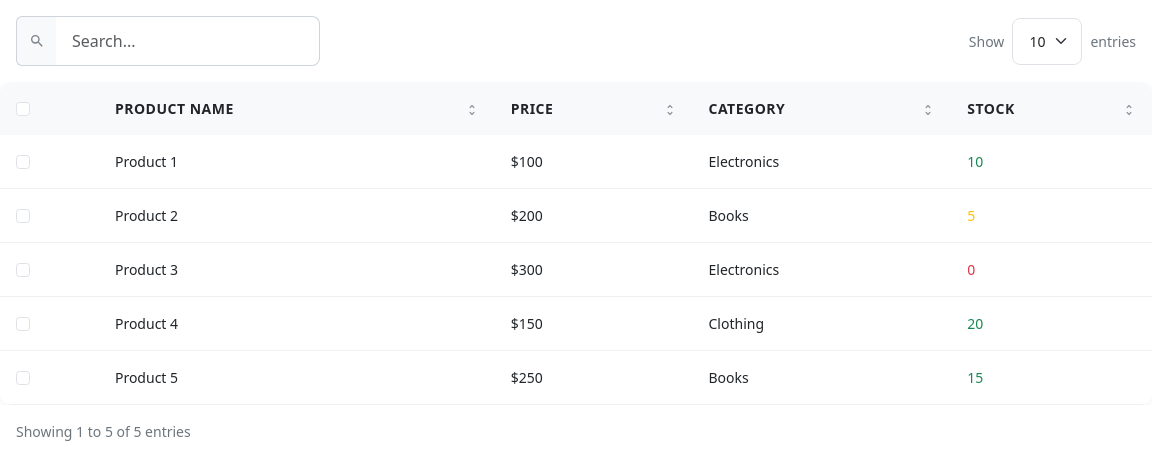
Test: DataTable Component › Row Selection › should select all rows when header checkbox is clicked
Click the checkbox next to "Product Name".
click(23, 108)  # box [16,102,30,116]
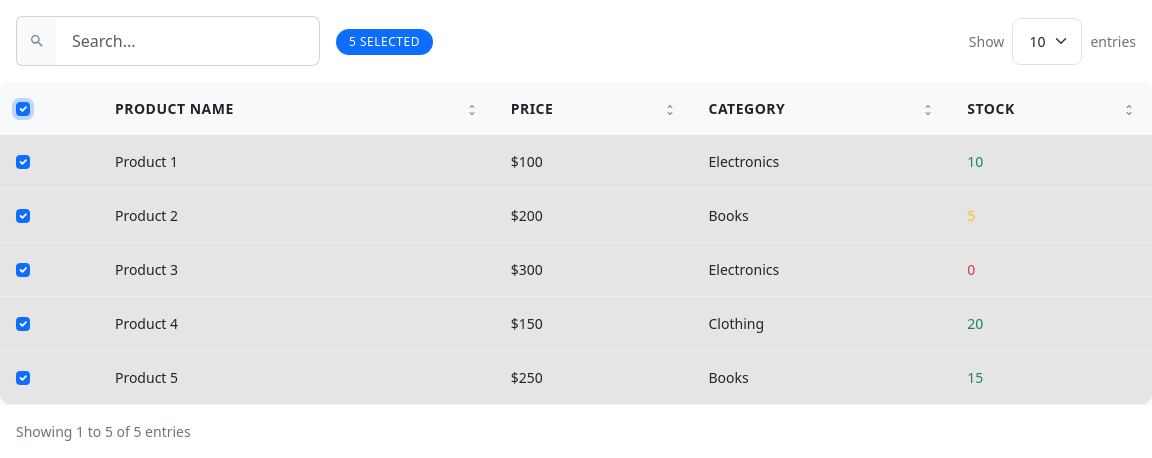
Check: the checkbox next to "Product Name" is checked, box [16,102,30,116]
Check: the checkbox next to "Product 1" is checked, box [16,154,30,168]
Check: the checkbox next to "Product 2" is checked, box [16,208,30,222]
